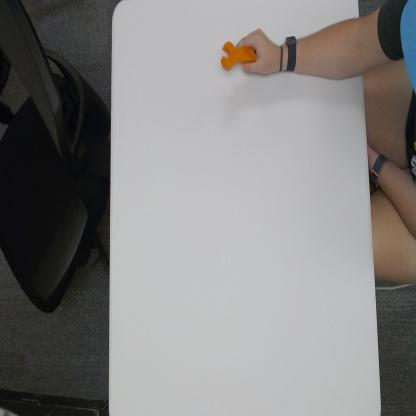Arm: (303, 10, 377, 85)
Hand: (238, 24, 280, 81)
Screwdriver: (220, 38, 257, 72)
